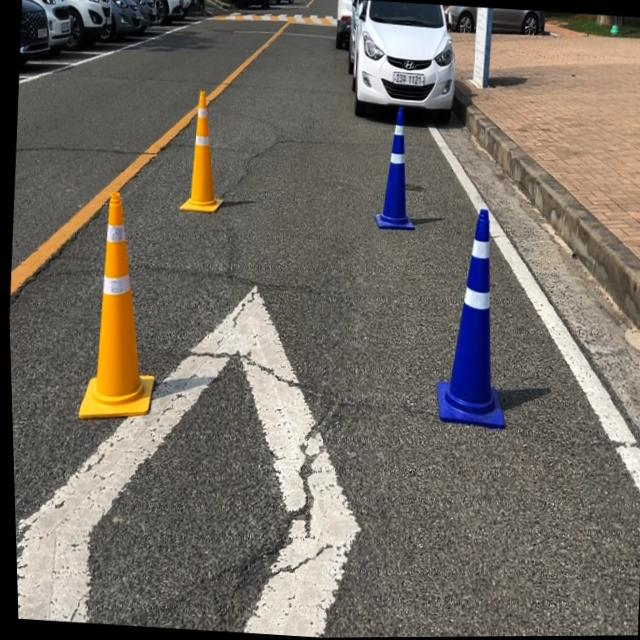b_rub: (435, 208, 502, 428), (373, 105, 413, 229)
y_rub: (75, 191, 151, 418), (178, 89, 221, 211)
